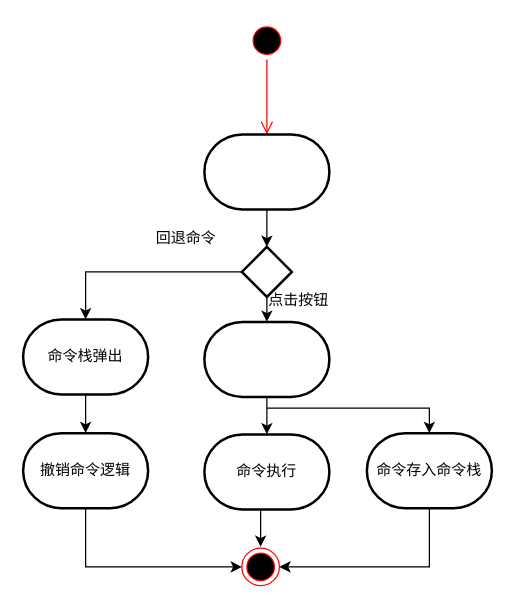
Some shapes in this 514 by 608 pixel diagram are drawn without their labels. Here are the shapes that lost their labels. From the top down, the centre of each, then its label:
the point at 266,171: 玩家操作
the point at 266,359: 创建相应命令对象
